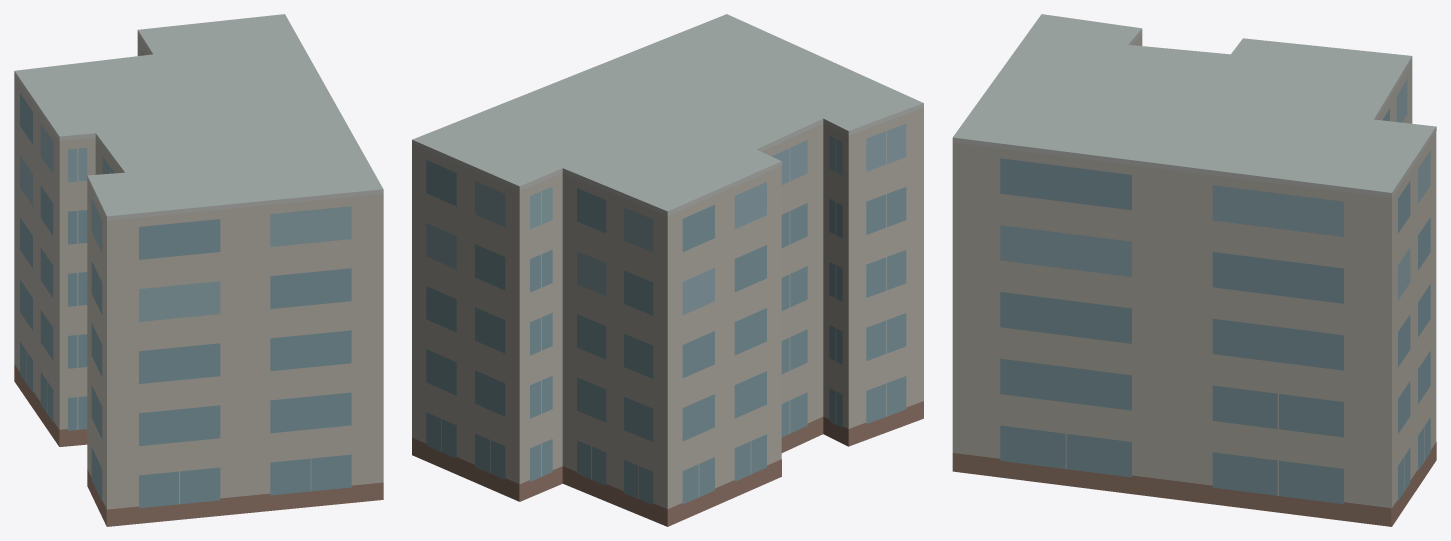
File: survey-upis-32876938.glb
The picture shows the model from 3 angles, left to right: view 1: azimuth 30°, elevation 25°; view 2: azimuth 150°, elevation 25°; view 3: azimuth 270°, elevation 25°; orthographic projection. The views are drawn at different scales.
Visible parts, largest first — view 1: survey-upis-32876938.tmp; view 2: survey-upis-32876938.tmp; view 3: survey-upis-32876938.tmp.
Part boxes in pixels (x1,y1,x2,y2): survey-upis-32876938.tmp: (14, 14, 383, 526); survey-upis-32876938.tmp: (412, 14, 923, 526); survey-upis-32876938.tmp: (952, 14, 1436, 526).
Size of the model in its own units: 19.43 by 16.9 by 22.2.
